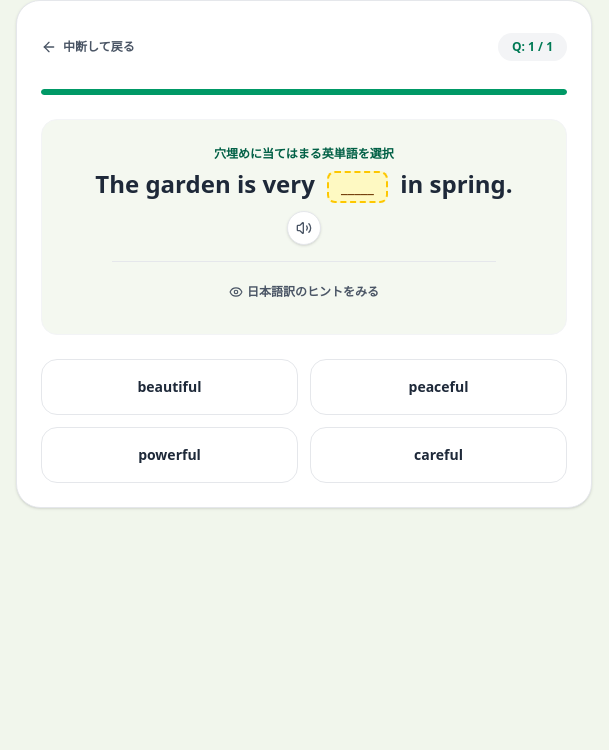
Test: 解答 › 不正解のときは、正解の綴りと意味を読み上げに伝える
Click the button "careful": coordinates (438, 455) 310,427 -> 567,483
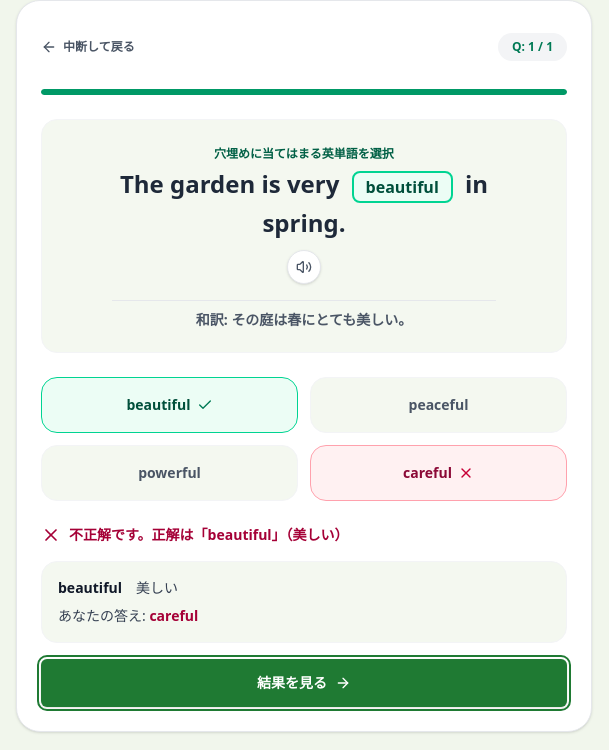
Now the message "不正解です。正解は「beautiful」（美しい）" is shown, box 41,525 -> 349,545
